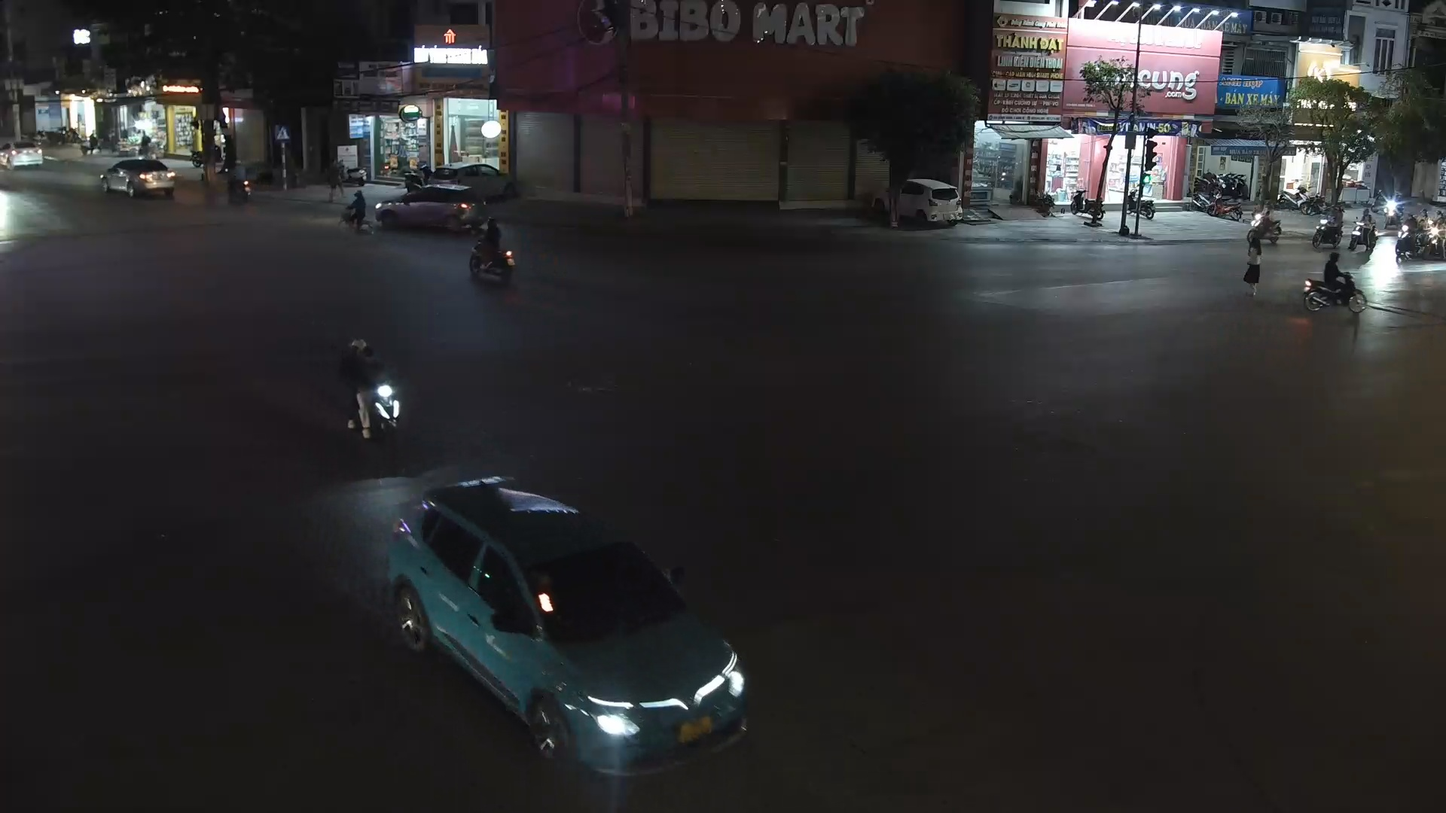car: (384, 474, 757, 795), (369, 181, 493, 235), (98, 155, 179, 201)
motorbike: (337, 335, 405, 446), (1300, 248, 1368, 316), (466, 215, 518, 286)
